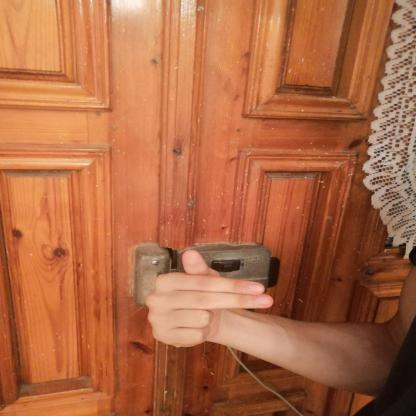GHAYN: (133, 242, 291, 354)
